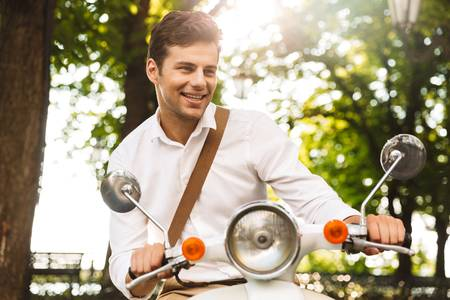F_shirt: (106, 106, 364, 296)
